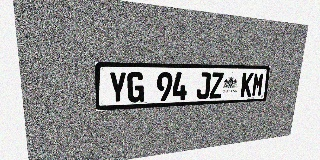4: (172, 72, 188, 100)
9: (156, 72, 173, 101)
G: (127, 72, 144, 103)
J: (196, 72, 211, 99)
K: (240, 72, 254, 97)
M: (251, 73, 265, 97)
Y: (108, 72, 127, 104)
Z: (209, 72, 224, 99)
